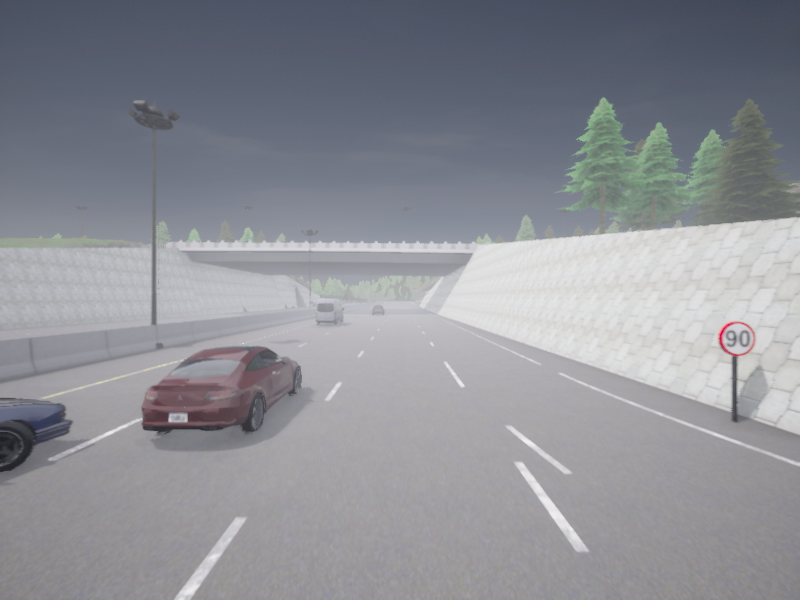vehicle: (141, 345, 300, 432), (0, 398, 72, 472), (316, 299, 343, 324), (372, 305, 384, 314)
